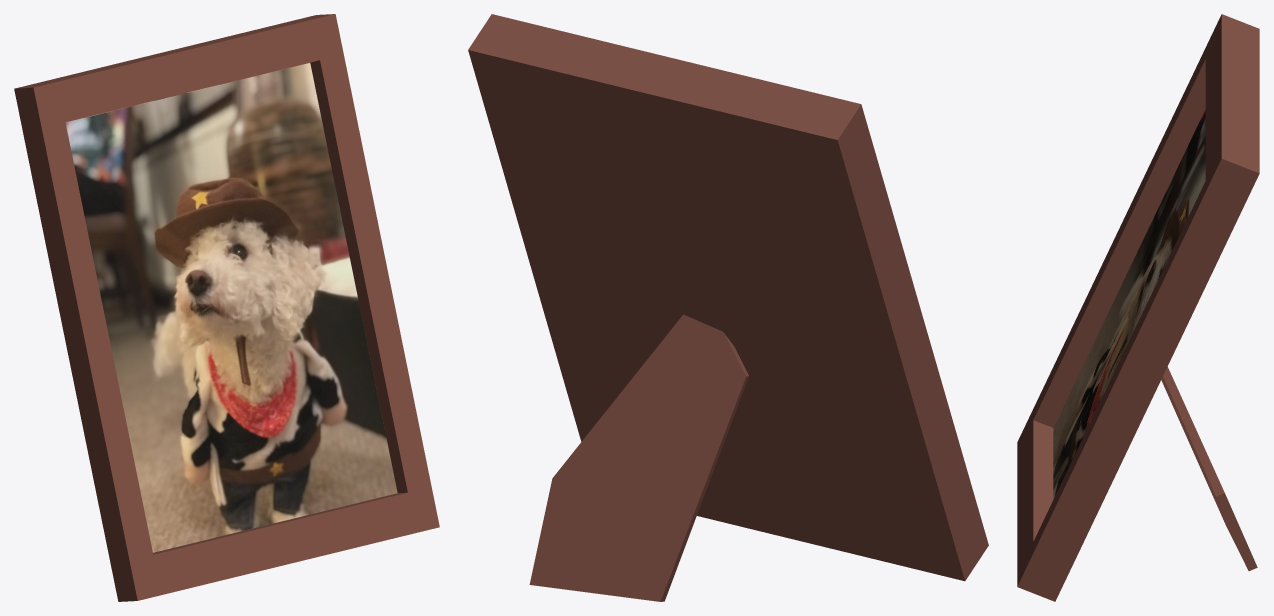
Rendered from PictureFrame.fbx.
The picture shows the model from 3 angles, left to right: view 1: azimuth 30°, elevation 25°; view 2: azimuth 150°, elevation 25°; view 3: azimuth 270°, elevation 25°; orthographic projection. The views are drawn at different scales.
Visible parts, largest first — view 1: Cube; view 2: Cube; view 3: Cube.
Part boxes in pixels (x1,y1,x2,y2): Cube: (14, 14, 439, 601); Cube: (468, 14, 988, 601); Cube: (1017, 14, 1259, 601).
Size of the model in its own units: 59.53 by 85.13 by 42.2.
Materials: 2 (1 with a texture image).
